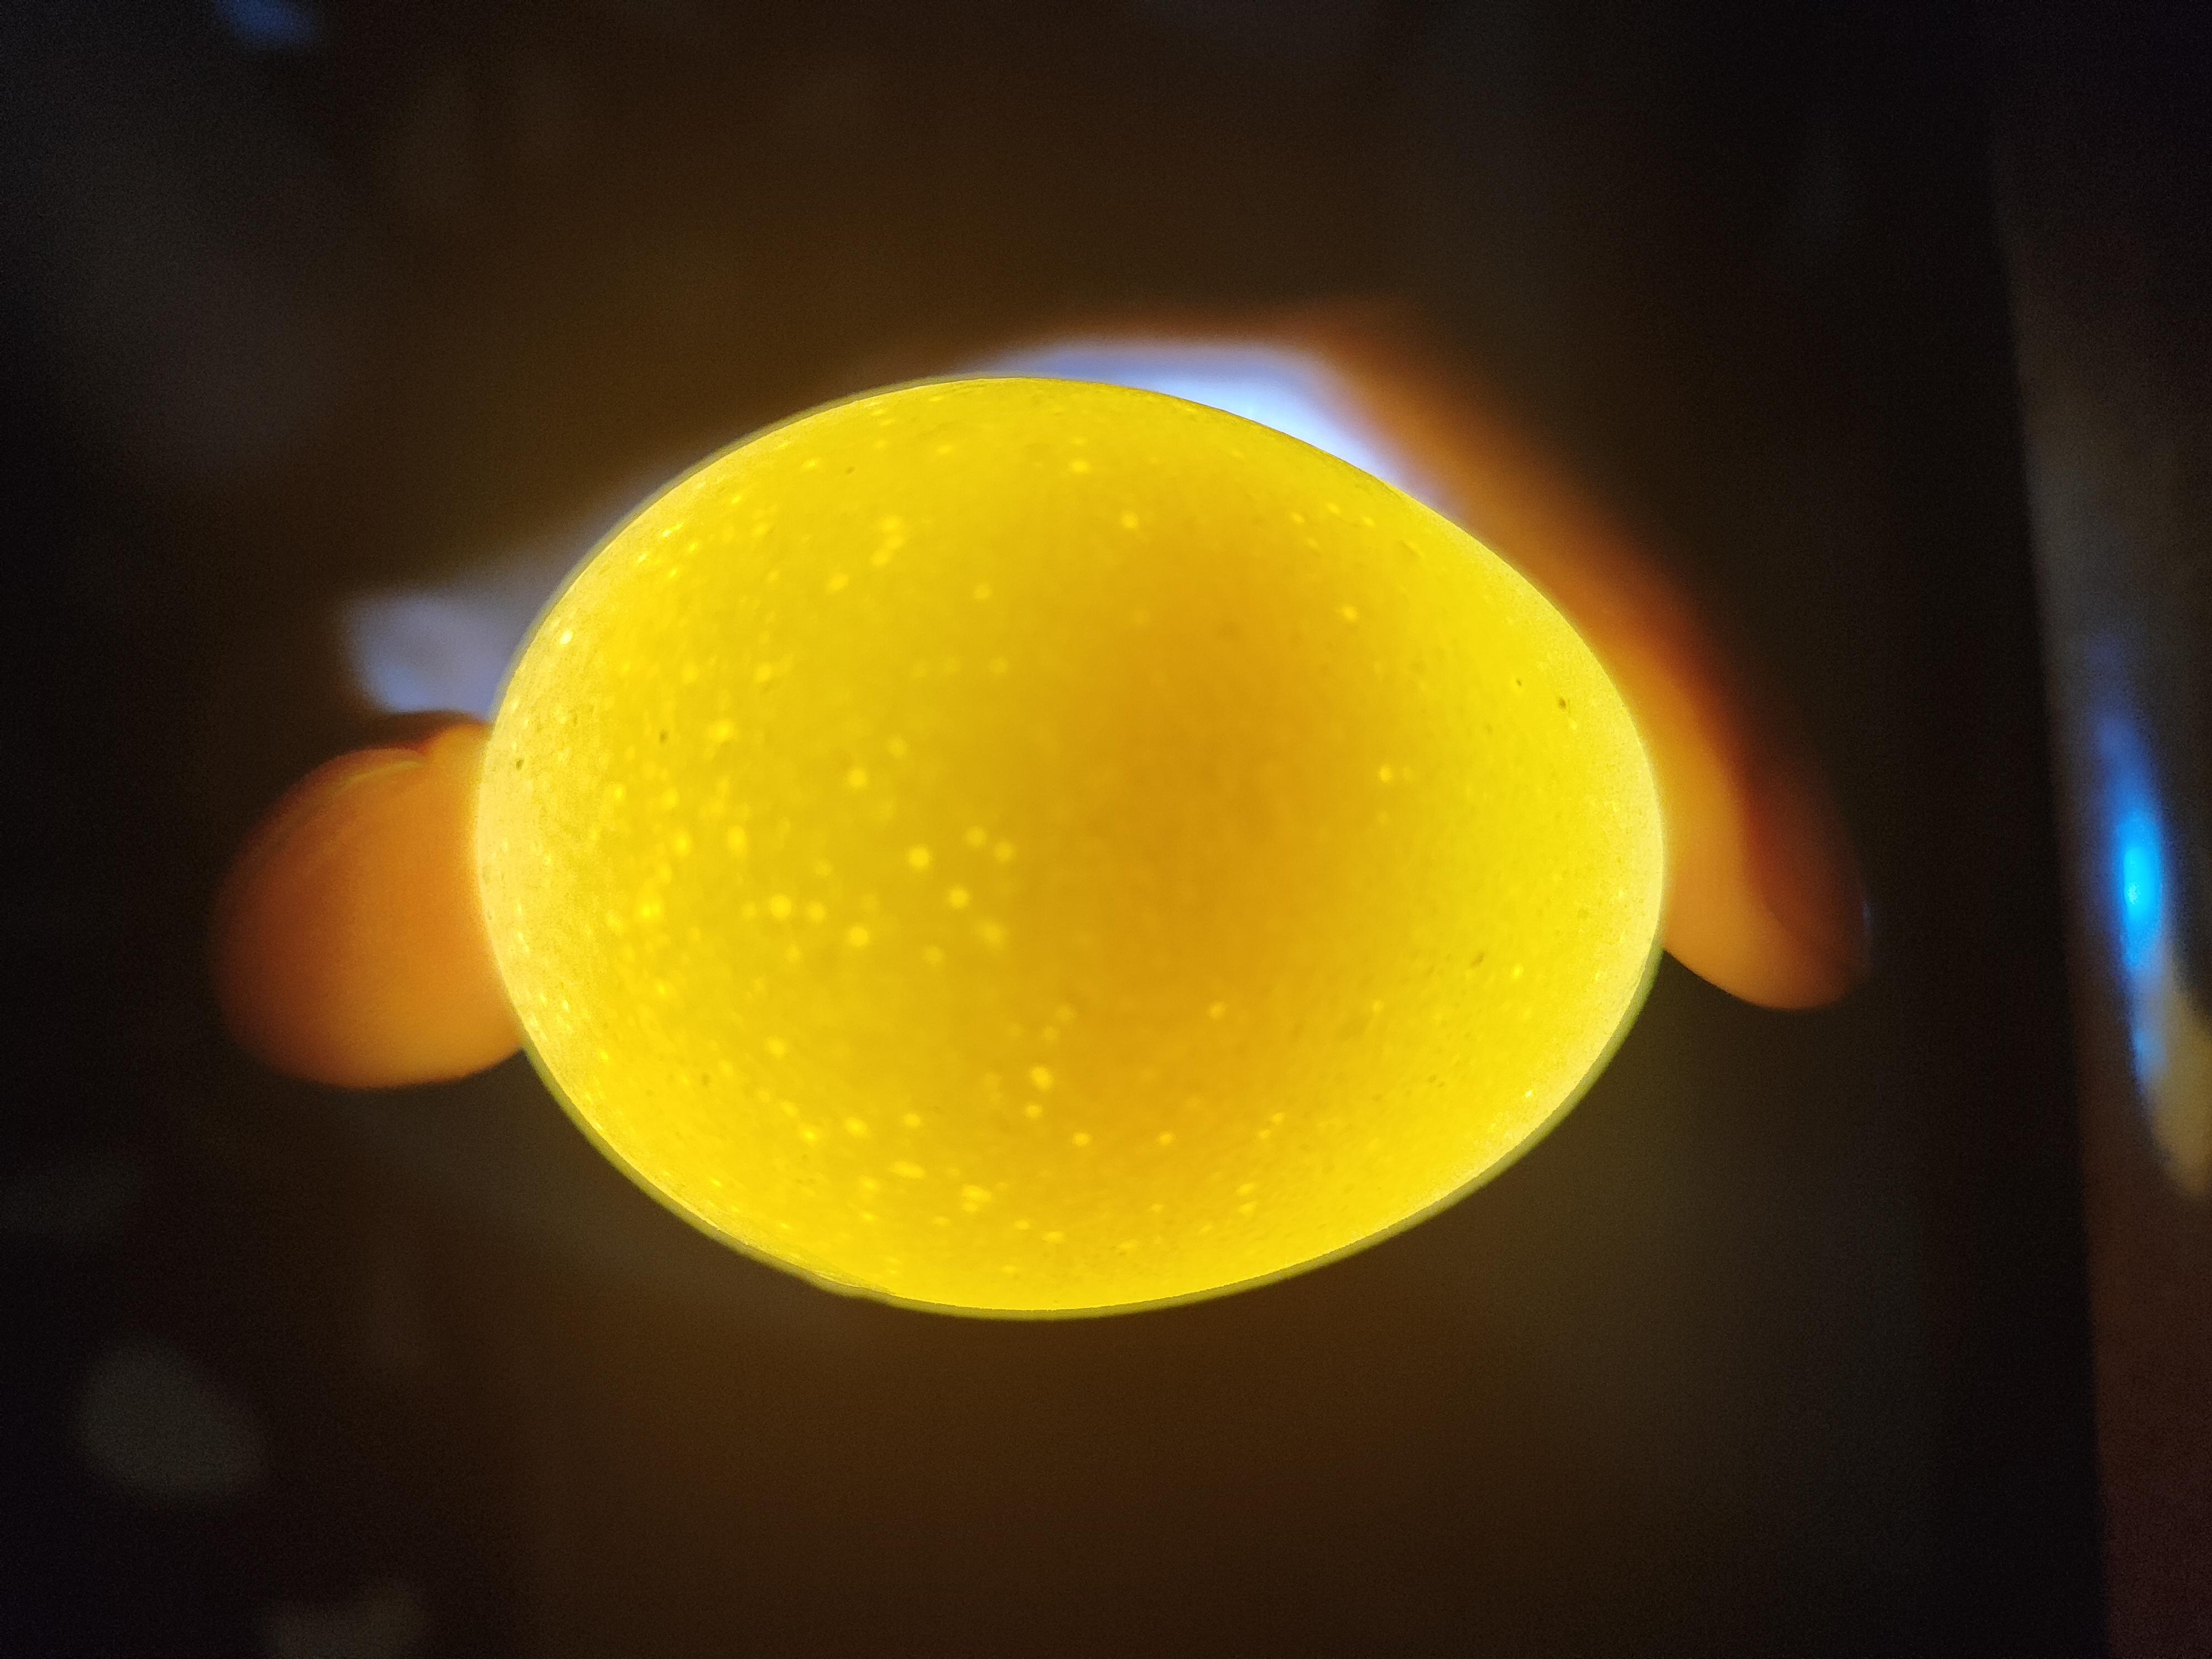AA - Premium: (460, 359, 1684, 1338)
